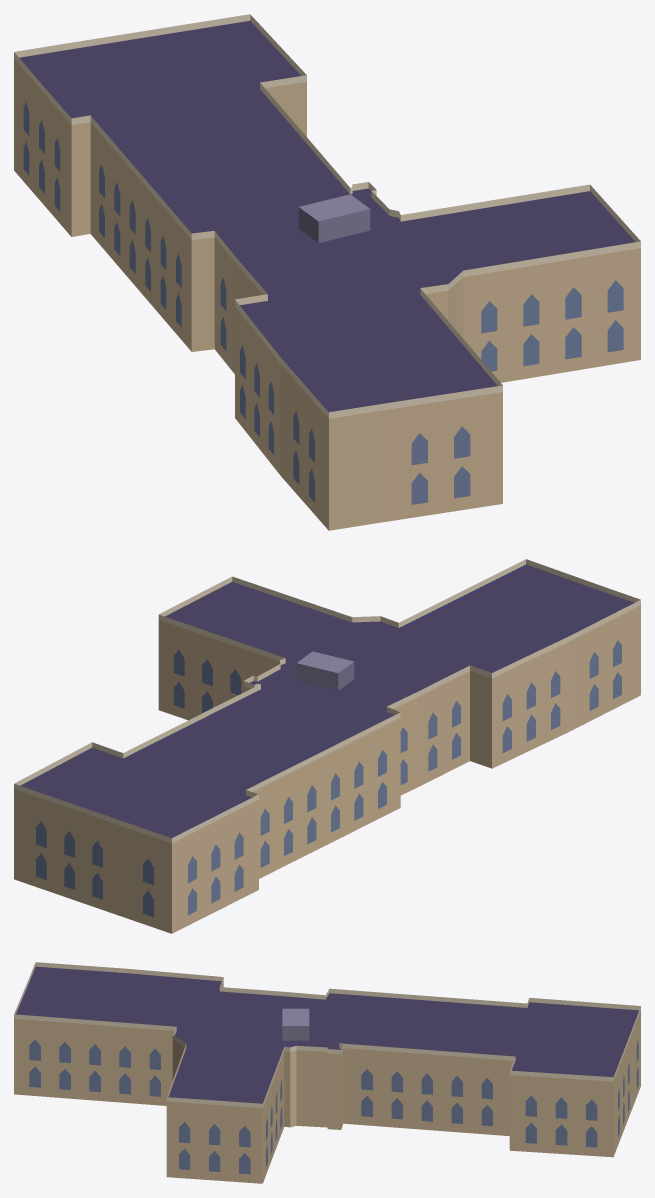
File: b-026-day.glb
3 renders of one model, top to bottom at view 1: azimuth 30°, elevation 25°; view 2: azimuth 150°, elevation 25°; view 3: azimuth 270°, elevation 25°, orthographic. The views are drawn at different scales.
Parts seen in each view (by area): view 1: campus/b-026-day-0; view 2: campus/b-026-day-0; view 3: campus/b-026-day-0.
Boxes of the visible parts, left/top/right/bottom form: campus/b-026-day-0: left=14, top=14, right=640, bottom=530; campus/b-026-day-0: left=14, top=559, right=640, bottom=933; campus/b-026-day-0: left=14, top=962, right=640, bottom=1183.
Size of the model in its own units: 37.34 by 11.1 by 69.88.
